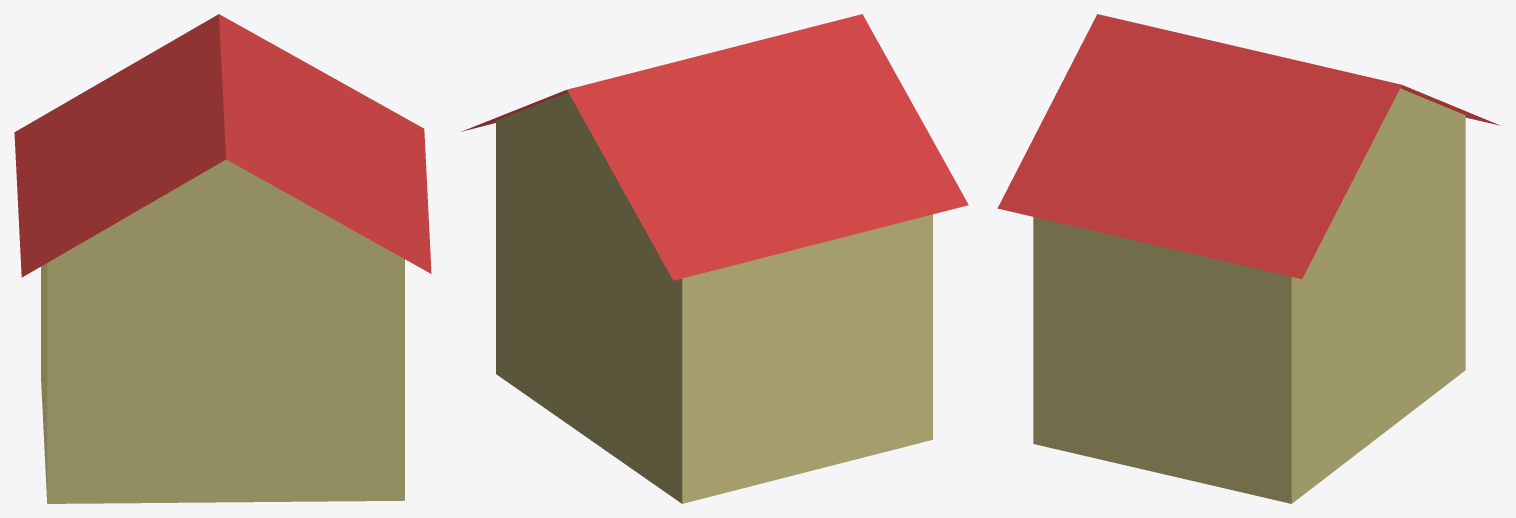
3 renders of one model, left to right at view 1: azimuth 30°, elevation 25°; view 2: azimuth 150°, elevation 25°; view 3: azimuth 270°, elevation 25°, orthographic.
Visible parts, largest first — view 1: group_5, group_3, group_4; view 2: group_5, group_3, group_4; view 3: group_5, group_3, group_4.
Boxes of the visible parts, x1=… form: group_5: x1=41, y1=159, x2=404, y2=503; group_3: x1=14, y1=14, x2=431, y2=277; group_4: x1=118, y1=14, x2=431, y2=273; group_5: x1=496, y1=92, x2=932, y2=503; group_3: x1=461, y1=15, x2=968, y2=280; group_4: x1=840, y1=14, x2=896, y2=120; group_5: x1=1033, y1=88, x2=1465, y2=503; group_3: x1=997, y1=14, x2=1385, y2=278; group_4: x1=999, y1=79, x2=1499, y2=278.
Bounding box in the file's own units: 15.09 × 14.35 × 11.22.
